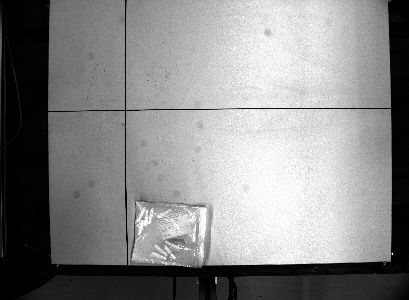t3: (127, 196, 212, 271)
